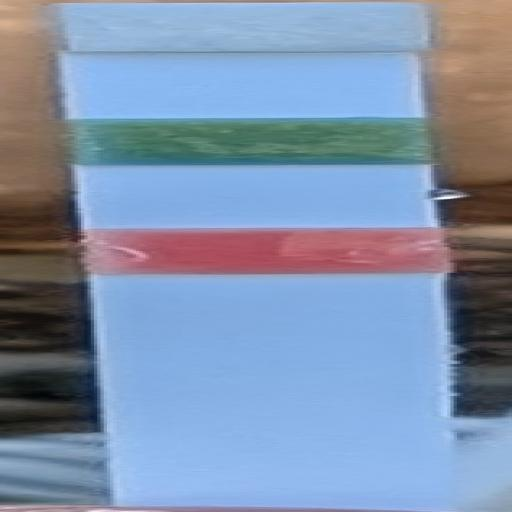pads: (52, 2, 427, 52), (78, 227, 439, 275), (71, 119, 430, 166)
